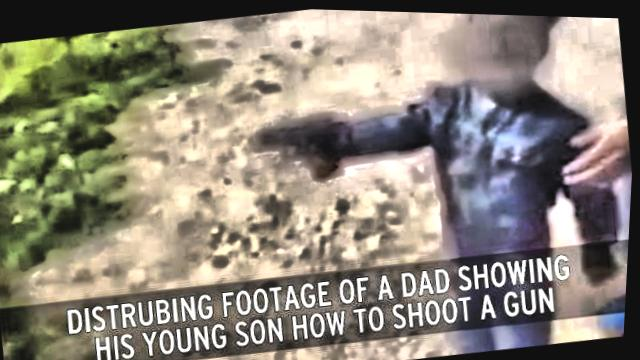pistol: (255, 106, 348, 185)
